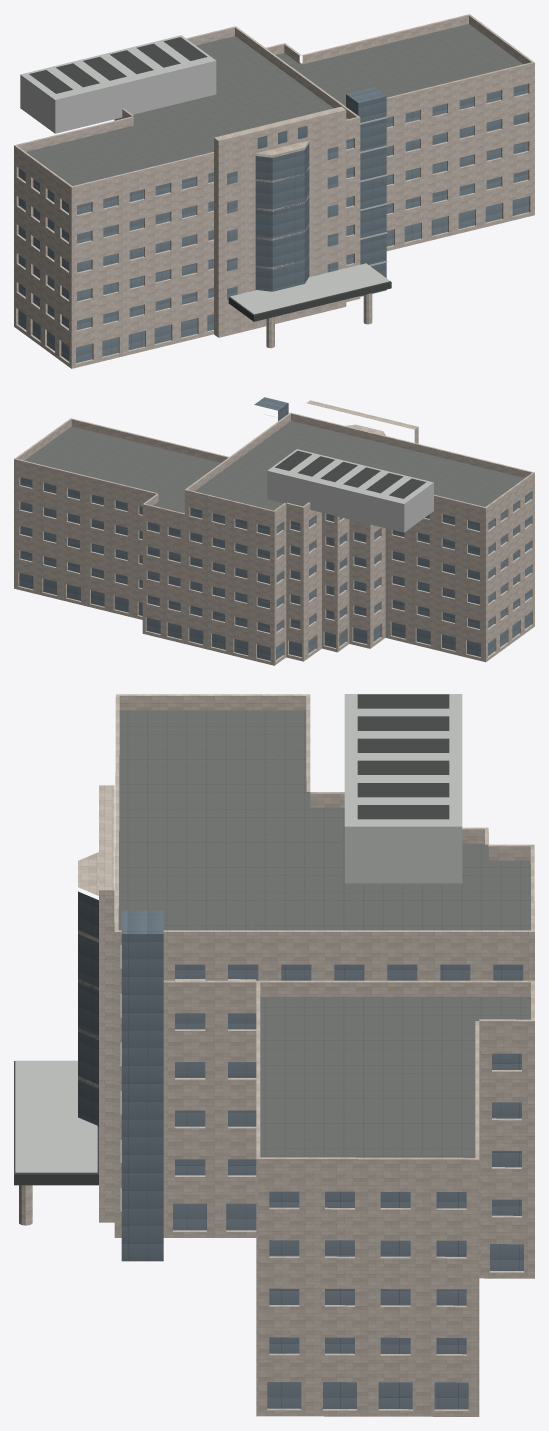
The picture shows the model from 3 angles, top to bottom: view 1: azimuth 30°, elevation 25°; view 2: azimuth 150°, elevation 25°; view 3: azimuth 270°, elevation 25°; orthographic projection. The views are drawn at different scales.
Visible parts, largest first — view 1: dental-hospital; view 2: dental-hospital; view 3: dental-hospital.
Boxes of the visible parts, bbox=[...] form: dental-hospital: bbox=[14, 14, 534, 368]; dental-hospital: bbox=[14, 397, 534, 665]; dental-hospital: bbox=[14, 694, 534, 1416].
Size of the model in its own units: 75.27 by 29.7 by 39.8.
Materials: 6 (4 with a texture image).
